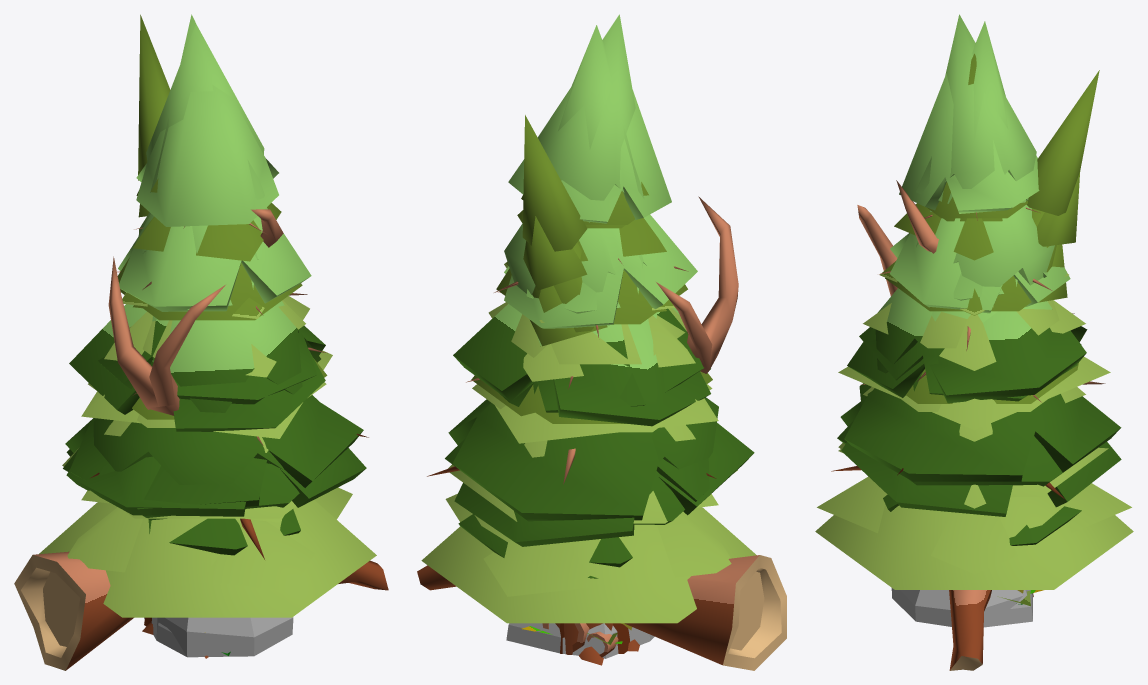
Rendered from AssetsExterior.fbx.
3 renders of one model, left to right at view 1: azimuth 30°, elevation 25°; view 2: azimuth 150°, elevation 25°; view 3: azimuth 270°, elevation 25°, orthographic. The views are drawn at different scales.
Visible parts, largest first — view 1: Tree7, Tree12, Tree6, Tree4, Tree1, Tree15, Tree14, Tree3, Rock2, Tree13, Tree5, Tree10; view 2: Tree7, Tree4, Tree12, Tree6, Tree1, Tree15, Tree14, Tree13, Tree3, Tree10, Tree11, Rock1 (+3 smaller); view 3: Tree7, Tree4, Tree12, Tree6, Tree15, Tree14, Tree13, Rock2, Tree10, Tree1, Tree3, Tree11 (+2 smaller).
Boxes of the visible parts, box(x1,y1,x2,y2) form: Tree7: box(66, 85, 366, 516); Tree12: box(39, 191, 376, 617); Tree6: box(93, 24, 302, 626); Tree4: box(65, 14, 363, 555); Tree1: box(14, 551, 388, 670); Tree15: box(67, 305, 352, 591); Tree14: box(81, 178, 332, 438); Tree3: box(108, 209, 283, 415); Rock2: box(144, 617, 293, 657); Tree13: box(138, 14, 170, 180); Tree5: box(63, 393, 299, 520); Tree10: box(88, 300, 326, 427); Tree7: box(453, 90, 754, 578); Tree4: box(448, 25, 709, 567); Tree12: box(421, 191, 756, 623); Tree6: box(504, 14, 718, 653); Tree1: box(417, 555, 786, 670); Tree15: box(445, 309, 731, 596); Tree14: box(488, 182, 718, 443); Tree13: box(522, 115, 593, 332); Tree3: box(555, 196, 738, 654); Tree10: box(472, 225, 712, 432); Tree11: box(523, 216, 607, 346); Rock1: box(506, 623, 654, 658); Tree7: box(841, 73, 1121, 545); Tree4: box(840, 21, 1121, 511); Tree12: box(815, 53, 1133, 589); Tree6: box(859, 14, 1054, 596); Tree15: box(817, 311, 1131, 573); Tree14: box(838, 203, 1110, 429); Tree13: box(1026, 70, 1099, 272); Rock2: box(891, 588, 1032, 627); Tree10: box(892, 218, 1059, 411); Tree1: box(949, 590, 991, 670); Tree3: box(857, 180, 938, 295); Tree11: box(1036, 171, 1080, 302).
Size of what is drawn, in the model's own units: 377 by 649 by 326.
